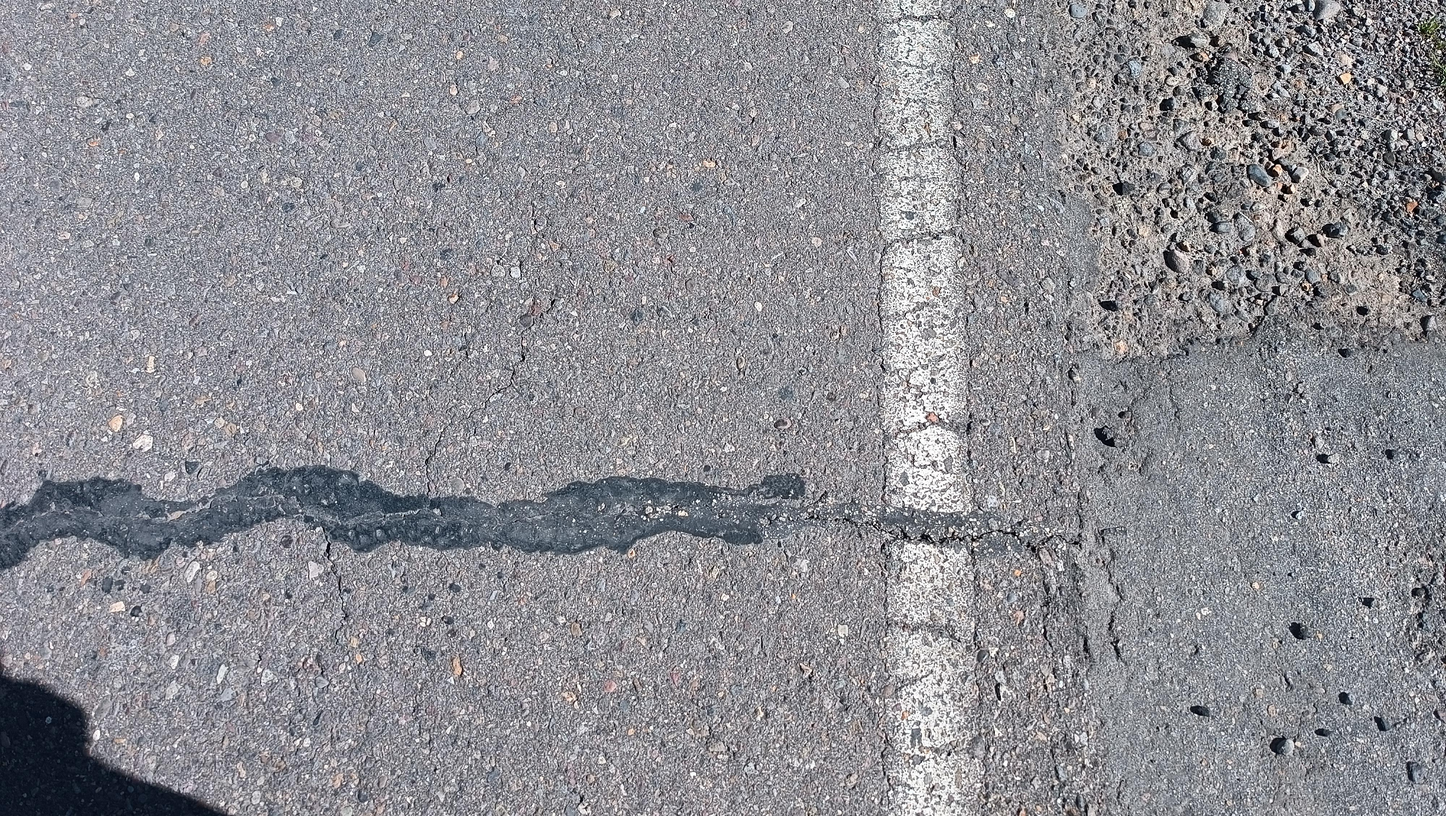GRIETA: (819, 516, 1079, 556)
PARCHE: (1073, 323, 1446, 816), (0, 466, 815, 569)
